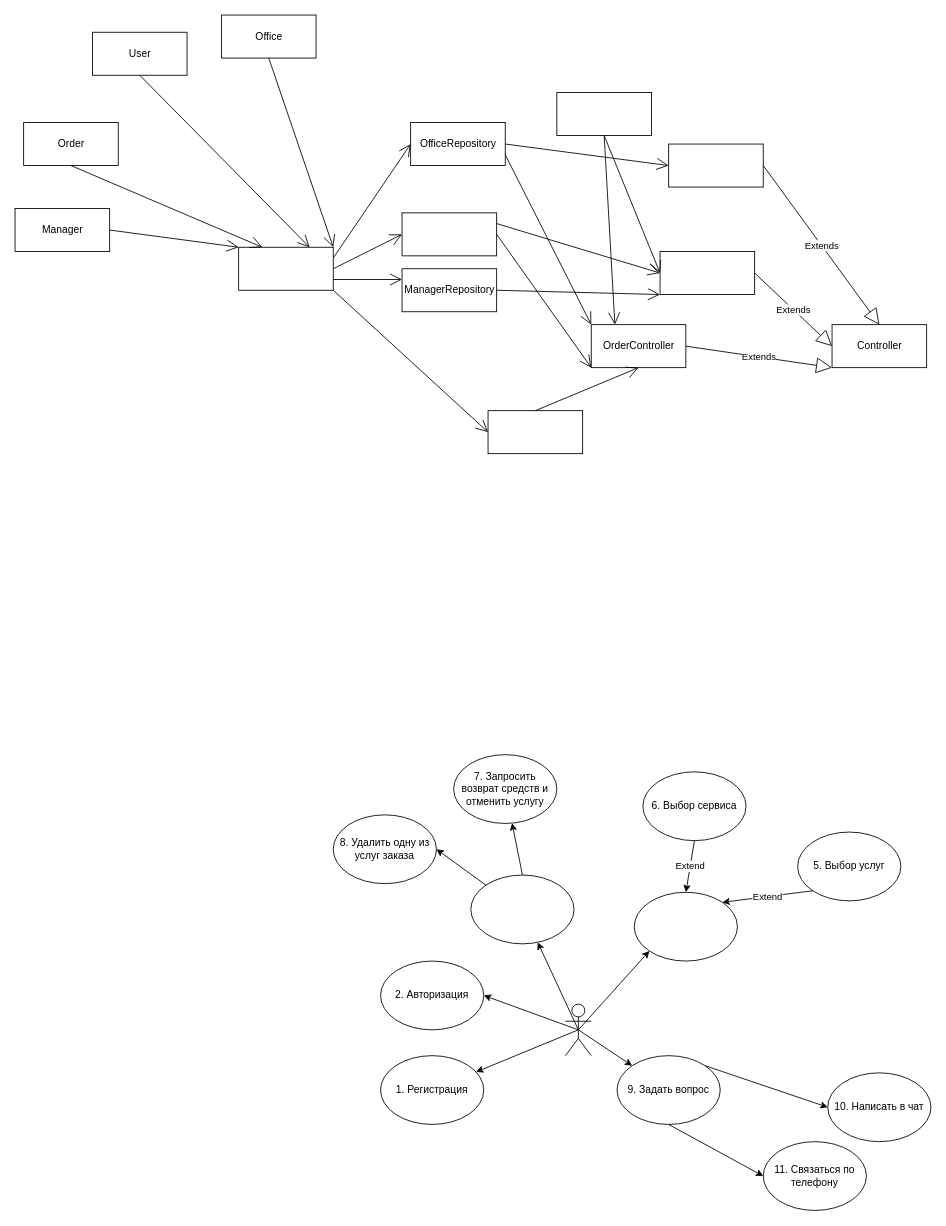
The diagram is 946 pixels wide and 1226 high, and some of its shapes have lost their labels. The shapes that lost their labels are listed below. From the top down, each one's centre as x and y in pixels, then its label:
point 603,113: Notifier
point 715,165: OfficeController
point 449,234: UserRepository
point 285,268: Database
point 707,273: HelpController
point 535,432: OrderRepository
point 522,909: 4. Отменить услугу
point 685,926: 3. Заказать услугу
point 578,1029: Actor
